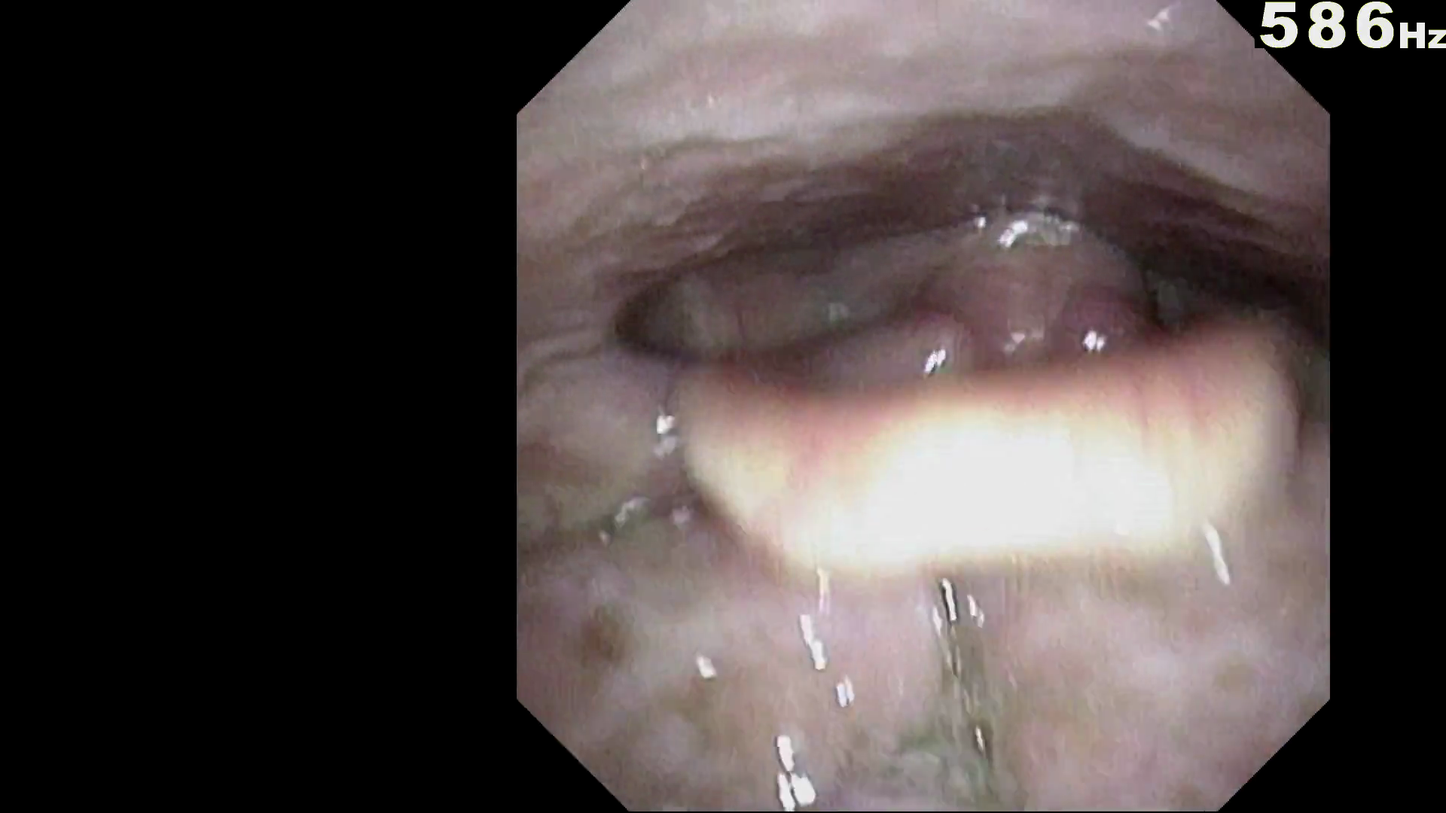epiglottis: (683, 290, 1271, 527)
